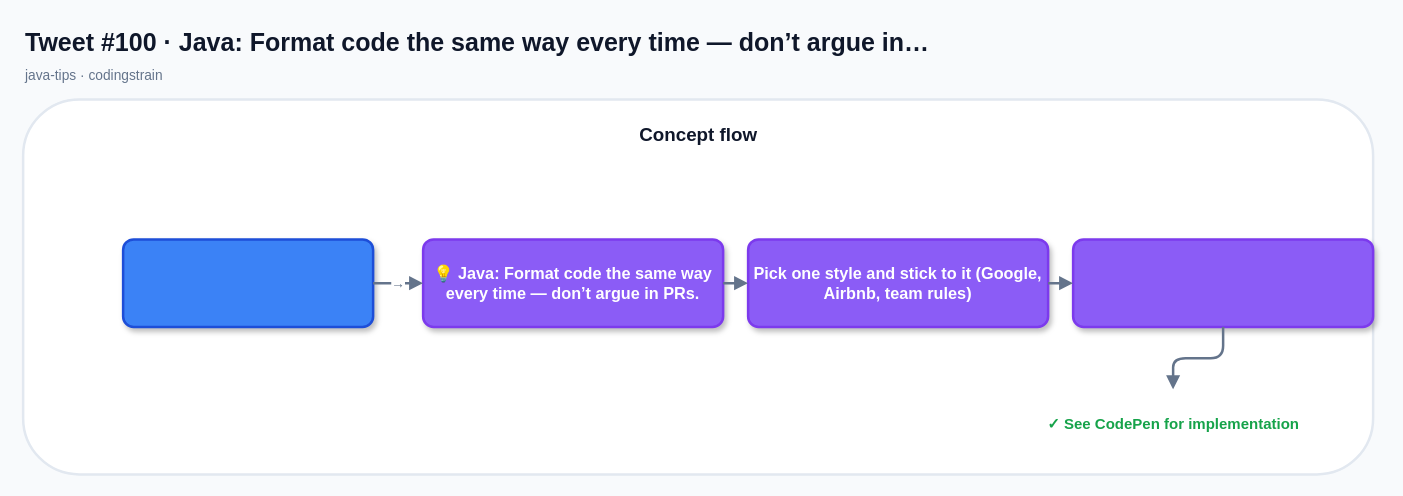
Image size: 1403x496. Some labels were removed from this diagram. Here are the shapes that lost their labels. From the top down, the centre of each, then its label:
At (x=248, y=284): "Problem / context".
At (x=1223, y=284): "Automate with Spotless or Checkstyle in the build".
